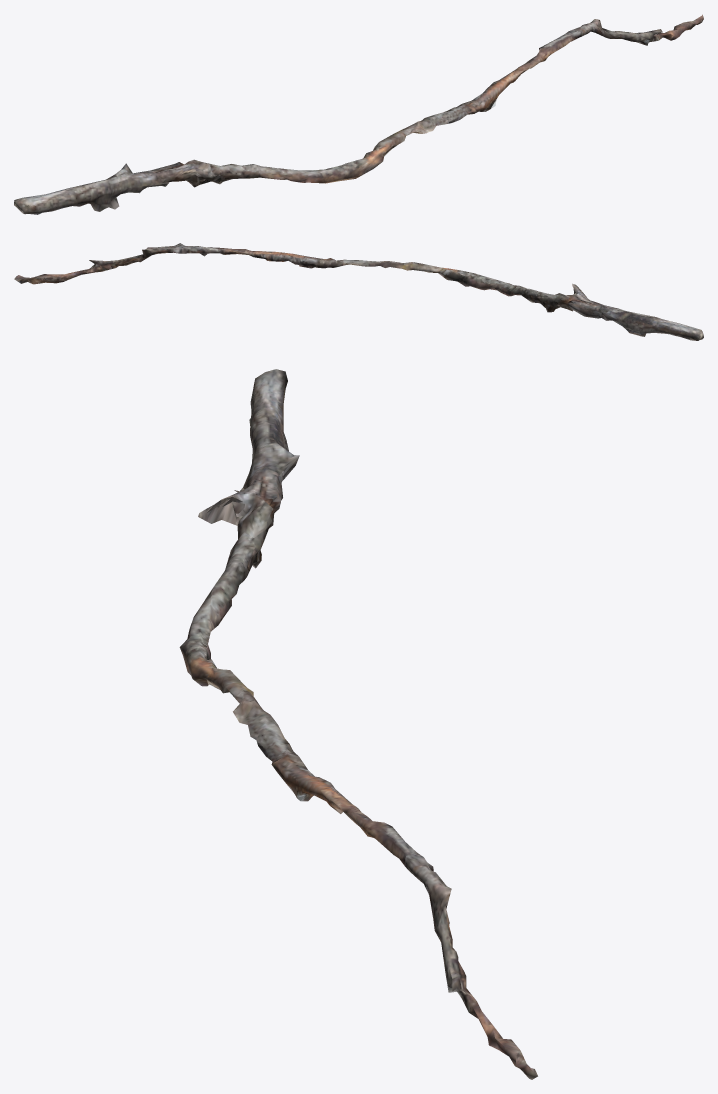
File: SM_Branch_11.fbx
3 views of the same model, one above another, from view 1: azimuth 30°, elevation 25°; view 2: azimuth 150°, elevation 25°; view 3: azimuth 270°, elevation 25° (orthographic). The views are drawn at different scales.
Parts seen in each view (by area): view 1: SM_Branch_11; view 2: SM_Branch_11; view 3: SM_Branch_11.
Part boxes in pixels (x1,y1,x2,y2): SM_Branch_11: (14, 14, 703, 214); SM_Branch_11: (14, 243, 703, 340); SM_Branch_11: (179, 369, 537, 1079).
Bounding box in the file's own units: 357 × 89.05 × 32.4.
1 material, 1 textured.
